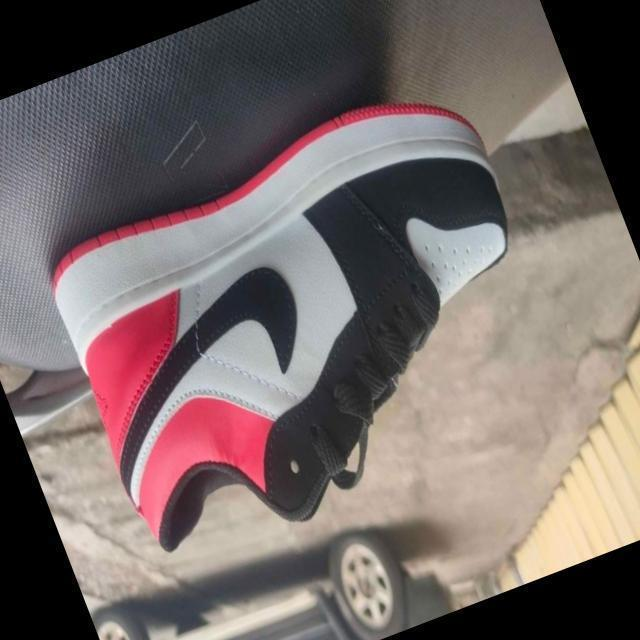nike fake jordan 1: (24, 69, 588, 579)
